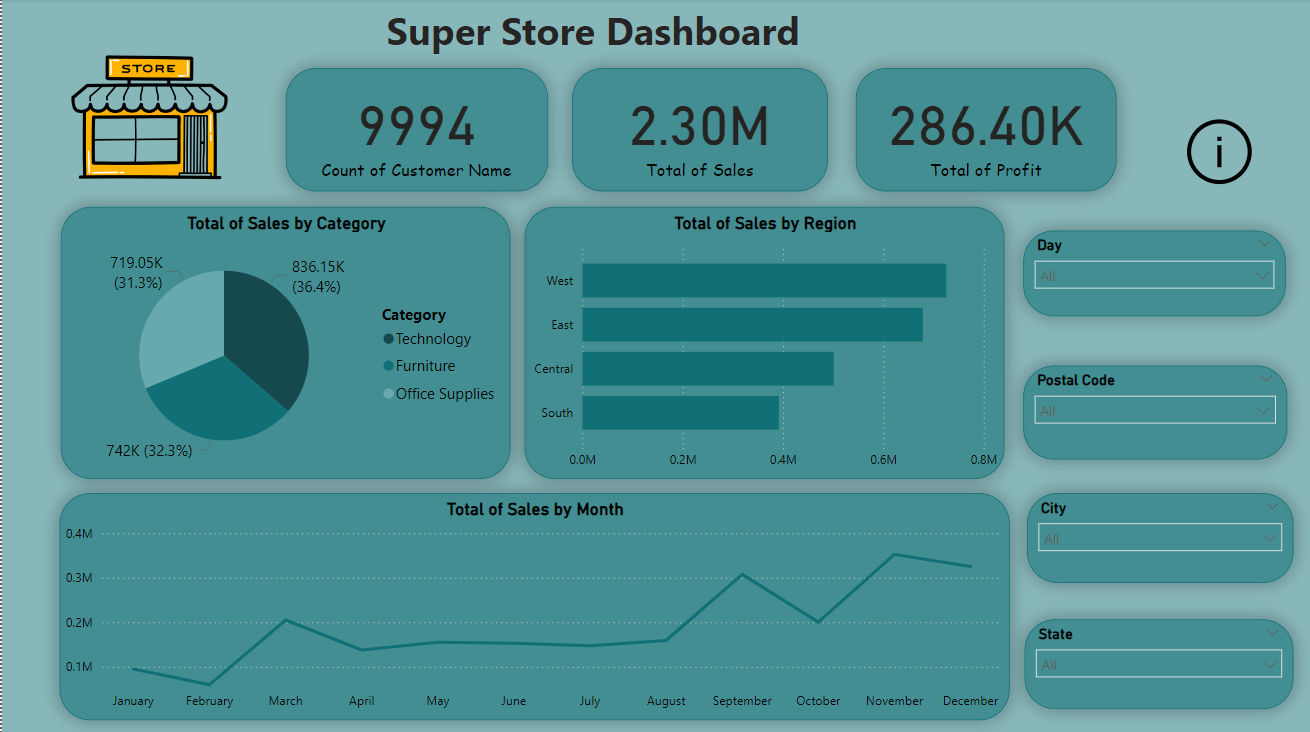

The dashboard page shown, as its layout file describes it:
{"tool":"powerbi","page":{"name":"Super Store Dashboard","canvas":[1280,720],"ordinal":0},"visuals":[{"type":"card","title":"Total of profit ","fields":{"Values":["Sum(Orders.Profit)"]},"box":[835.2,68.5,255.6,121.1],"z":0},{"type":"card","fields":{"Values":["Sum(Orders.Sales)"]},"box":[557.6,68.5,250.7,121.1],"z":1000},{"type":"pieChart","fields":{"Category":["Orders.Category"],"Y":["Sum(Orders.Sales)"]},"box":[57.5,204.2,440.2,266.6],"z":2000},{"type":"barChart","title":"Total of Sales by Region","fields":{"Y":["Sum(Orders.Sales)"],"Category":["Orders.Region"]},"box":[511.1,204.2,469.6,266.6],"z":3000},{"type":"lineChart","title":"Total of Sales by Month","fields":{"Y":["Sum(Orders.Sales)"],"Category":["Orders.Order Date.Variation.Date Hierarchy.Month"]},"box":[56.3,484.2,929.4,222.6],"z":4000},{"type":"slicer","fields":{"Values":["Orders.Order Date.Variation.Date Hierarchy.Day"]},"box":[999.1,227.4,256.8,84.4],"z":5000},{"type":"slicer","fields":{"Values":["Orders.Postal Code"]},"box":[999.1,359.5,258,91.7],"z":6000},{"type":"slicer","fields":{"Values":["Orders.State"]},"box":[1000.3,607.7,262.9,88],"z":7000},{"type":"card","fields":{"Values":["CountNonNull(Orders.Customer Name)"]},"box":[277.6,68.5,256.8,121.1],"z":8000},{"type":"slicer","fields":{"Values":["Orders.City"]},"box":[1002.7,484.2,260.5,88],"z":9000},{"type":"actionButton","box":[1147,111.3,88,78.3],"z":10001},{"type":"textbox","box":[78.3,1.2,1000.3,67.3],"z":10002},{"type":"image","box":[57.5,35.5,173.6,162.6],"z":10003}]}

Visuals, with their boxes in screenshot pixels (x1, y1, x2, y2), scaled from the page's 1280x720 canvas onto the 1310x732 screenshot:
"Total of profit " card: box(855, 70, 1116, 193)
card - Sum(Orders.Sales): box(571, 70, 827, 193)
pieChart - Orders.Category x Sum(Orders.Sales): box(59, 208, 509, 479)
"Total of Sales by Region" barChart: box(523, 208, 1004, 479)
"Total of Sales by Month" lineChart: box(58, 492, 1009, 719)
slicer - Orders.Order Date.Variation.Date Hierarchy.Day: box(1023, 231, 1285, 317)
slicer - Orders.Postal Code: box(1023, 365, 1287, 459)
slicer - Orders.State: box(1024, 618, 1293, 707)
card - CountNonNull(Orders.Customer Name): box(284, 70, 547, 193)
slicer - Orders.City: box(1026, 492, 1293, 582)
actionButton: box(1174, 113, 1264, 193)
textbox: box(80, 1, 1104, 70)
image: box(59, 36, 237, 201)
